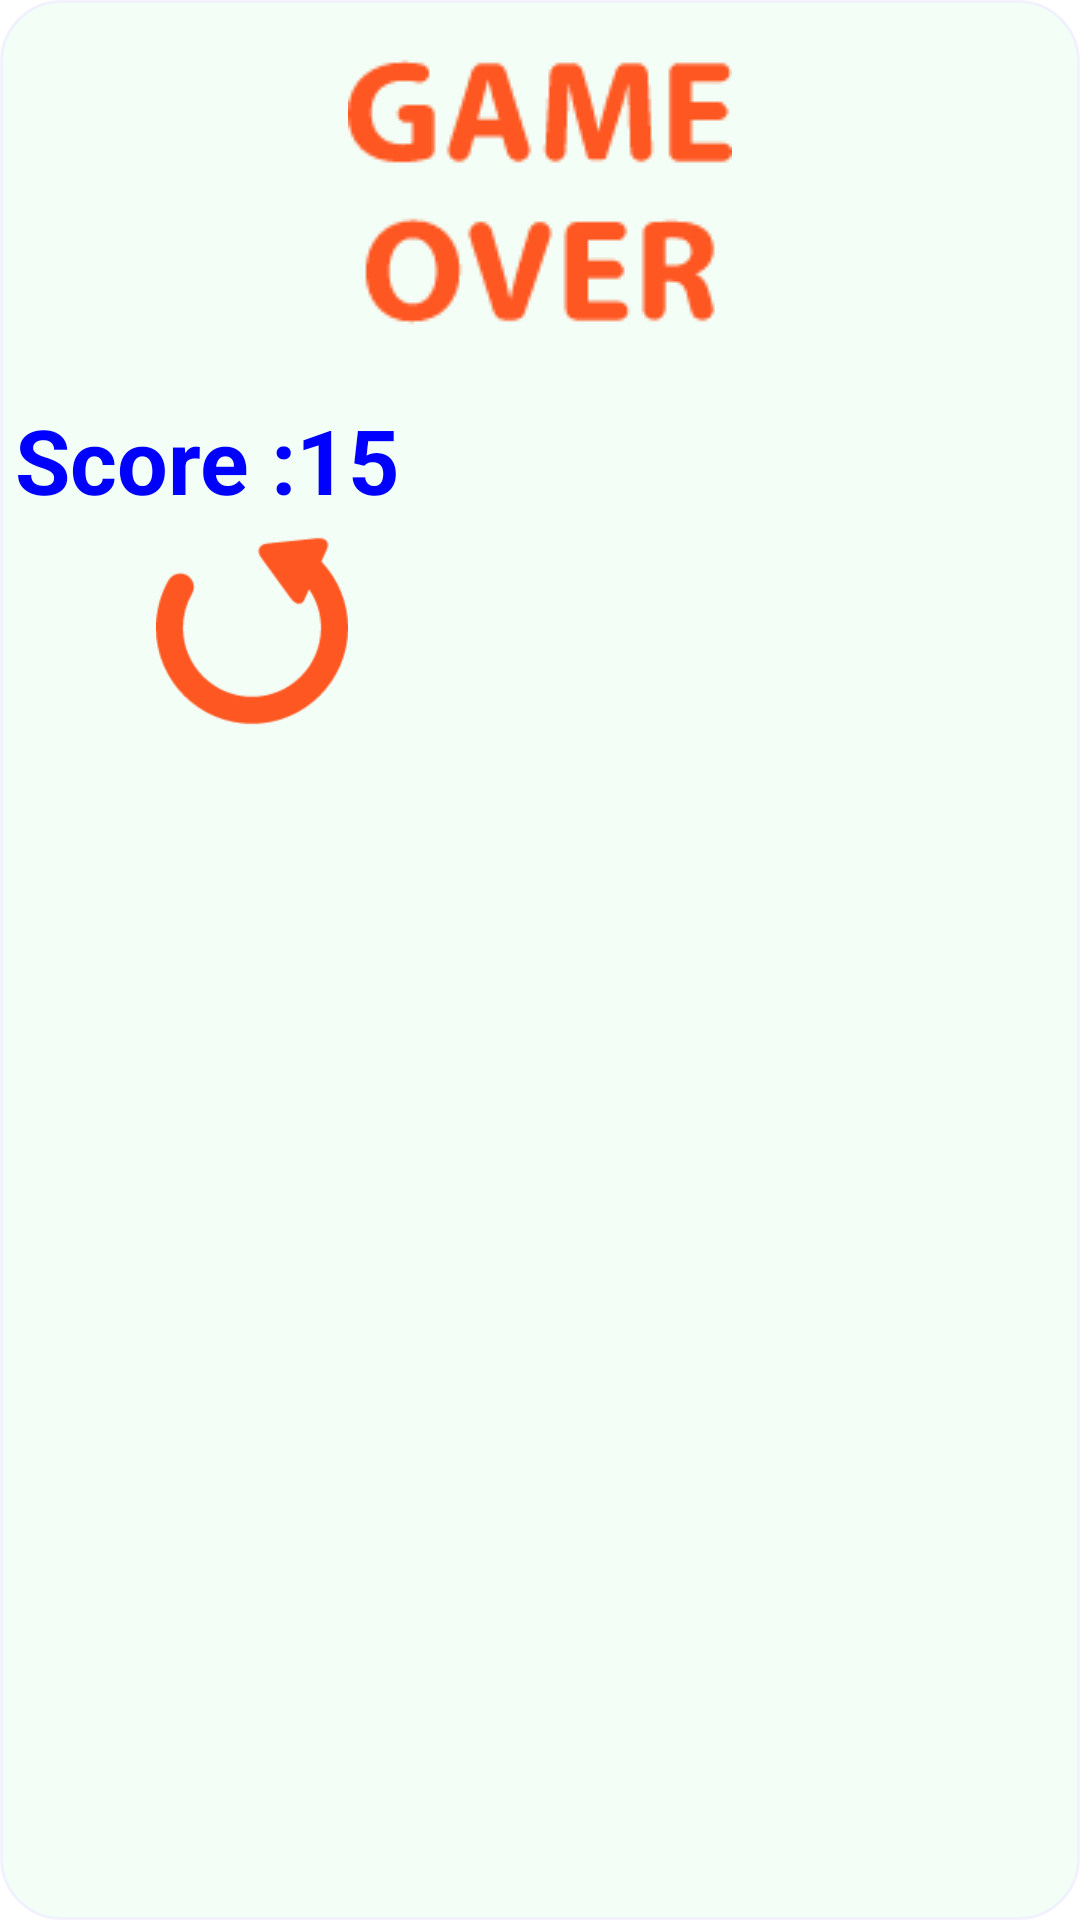

Locate icon controls on the screen. Image size 1080 x 1920, boxes as rect(x1, y1, x2, y2).
replay: rect(156, 537, 348, 725)
